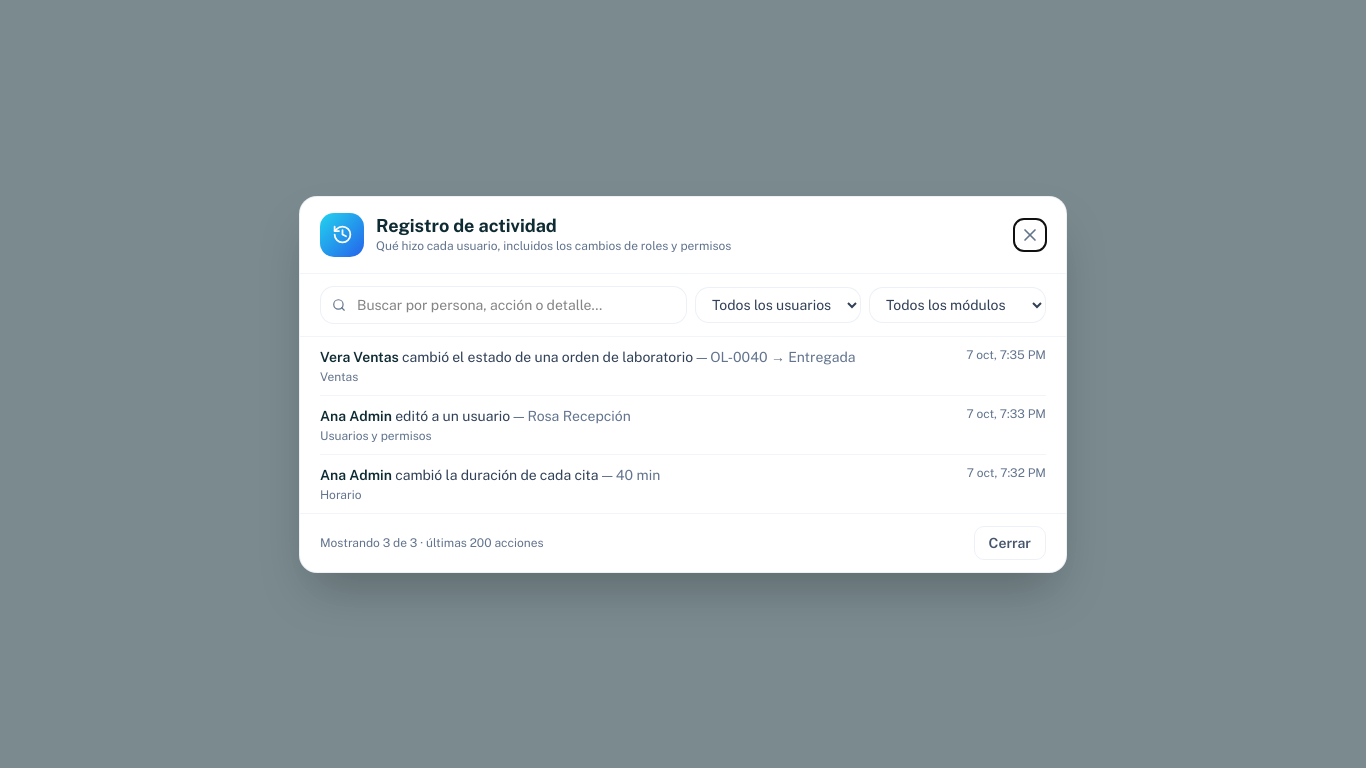
Registro de actividad en la ventana estándar › el buscador filtra por persona, acción o detalle
The image size is (1366, 768).
Expected: the list named "Actividad" is shown, top-left (300, 336), bottom-right (1066, 512)
In the search field named "Buscar en la actividad": x=504, y=304 top-left (320, 286), bottom-right (687, 324), type "orden"
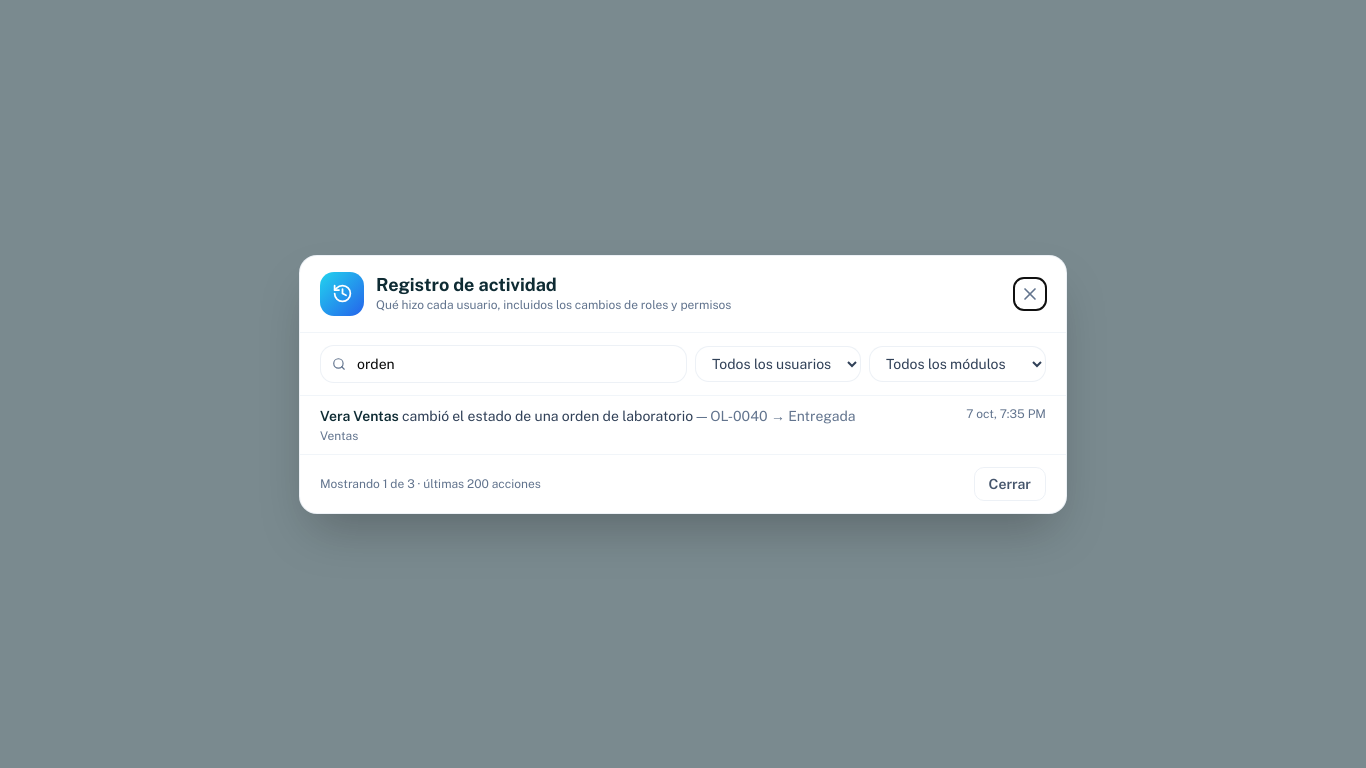
Expected: the number of list items is 1, top-left (320, 396), bottom-right (1046, 454)
Expected: the message shows "Mostrando 1 de 3", top-left (320, 476), bottom-right (541, 490)
